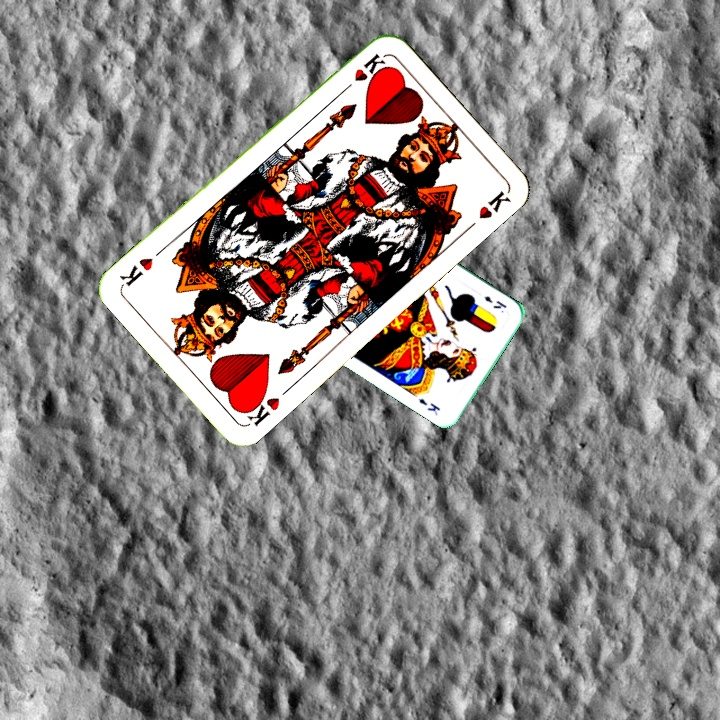EK: (480, 292, 509, 311)
HK: (337, 49, 389, 96), (238, 387, 283, 430)
